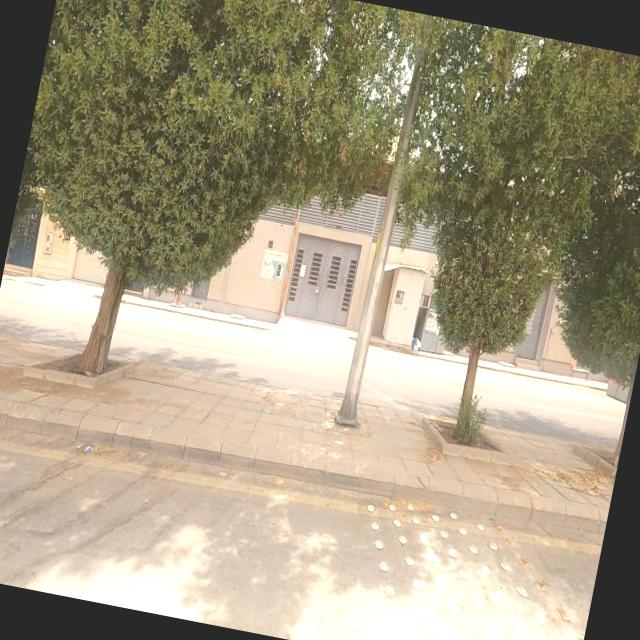debris: (391, 312, 442, 382)
